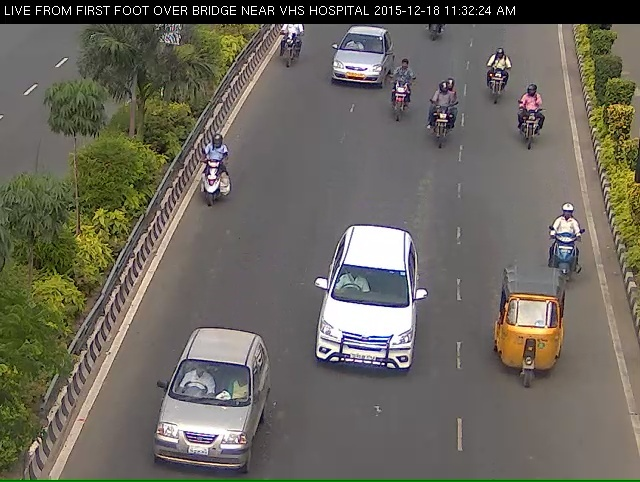Car: (309, 249, 429, 427), (139, 364, 262, 482), (498, 281, 571, 415), (312, 27, 394, 96)
Person: (186, 148, 234, 231), (547, 219, 589, 310), (421, 90, 464, 159), (483, 50, 514, 115), (518, 93, 549, 158), (270, 22, 303, 81), (384, 67, 411, 131), (420, 18, 451, 53)
